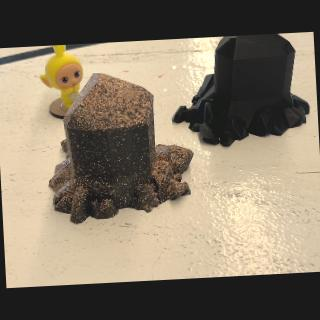teletubby: (40, 45, 83, 109)
